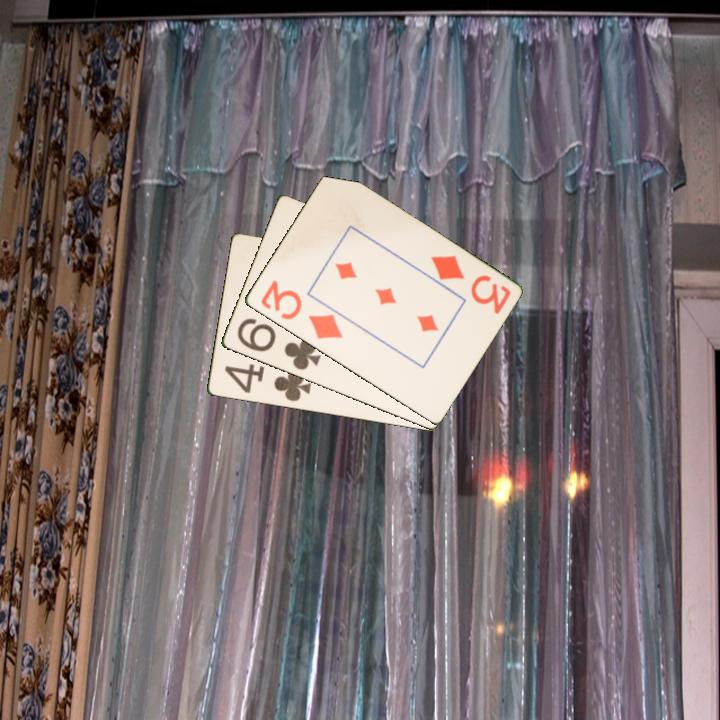3d: (257, 277, 345, 342), (427, 252, 513, 317)
4c: (221, 360, 313, 405)
6c: (233, 314, 323, 373)
